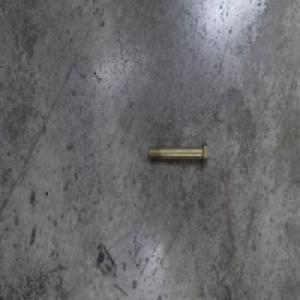Bolt: (147, 138, 210, 165)
